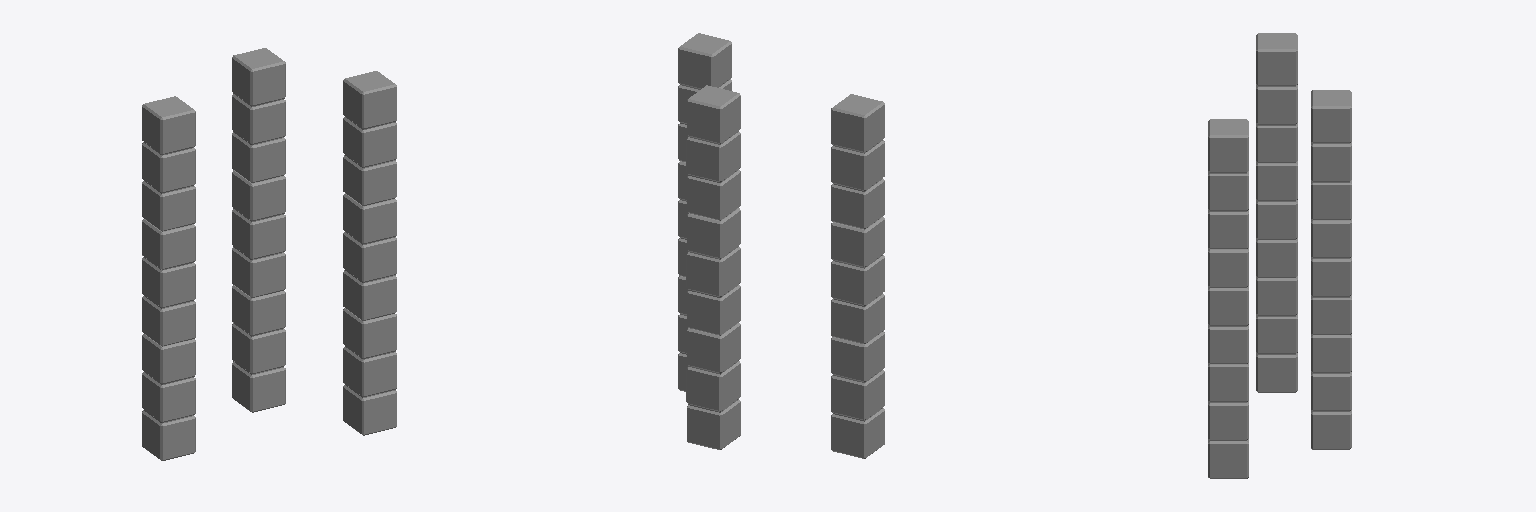
3 views of the same model, side by side, from view 1: azimuth 30°, elevation 25°; view 2: azimuth 150°, elevation 25°; view 3: azimuth 270°, elevation 25° (orthographic).
Parts seen in each view (by area): view 1: Module_01.002, Module_01.009, Module_01.008; view 2: Module_01.002, Module_01.009, Module_01.008; view 3: Module_01.009, Module_01.002, Module_01.008.
Boxes of the visible parts, box(x1,y1,x2,y2) form: Module_01.002: box(232, 48, 285, 412); Module_01.009: box(142, 96, 195, 460); Module_01.008: box(343, 71, 396, 435); Module_01.002: box(686, 85, 740, 449); Module_01.009: box(831, 94, 884, 458); Module_01.008: box(678, 33, 731, 391); Module_01.009: box(1256, 33, 1297, 392); Module_01.002: box(1311, 90, 1351, 449); Module_01.008: box(1208, 119, 1248, 478).
Size of the model in its own units: 5.35 by 8.25 by 3.14.